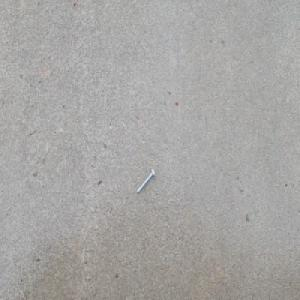Nail: (136, 167, 156, 195)
